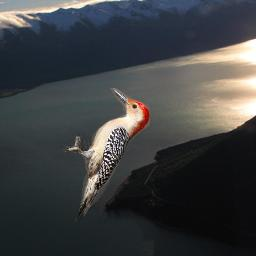Woodpecker: (63, 88, 152, 221)
